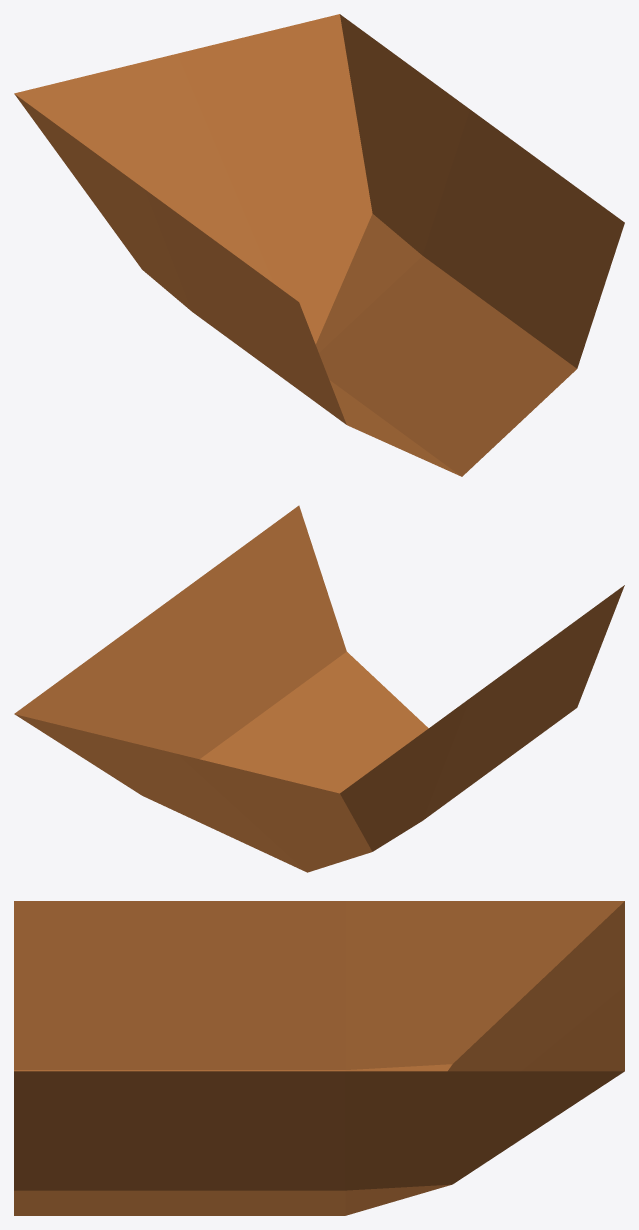
The model's file is ship_tail_bottom.fbx.
The picture shows the model from 3 angles, top to bottom: view 1: azimuth 30°, elevation 25°; view 2: azimuth 150°, elevation 25°; view 3: azimuth 270°, elevation 25°; orthographic projection. The views are drawn at different scales.
Parts seen in each view (by area): view 1: ship_bottom_tail; view 2: ship_bottom_tail; view 3: ship_bottom_tail.
Part boxes in pixels (x1,y1,x2,y2): ship_bottom_tail: (14,14,624,476); ship_bottom_tail: (14,505,624,872); ship_bottom_tail: (14,901,624,1215).
Bounding box in the file's own units: 3.41 × 2.15 × 5.17.
